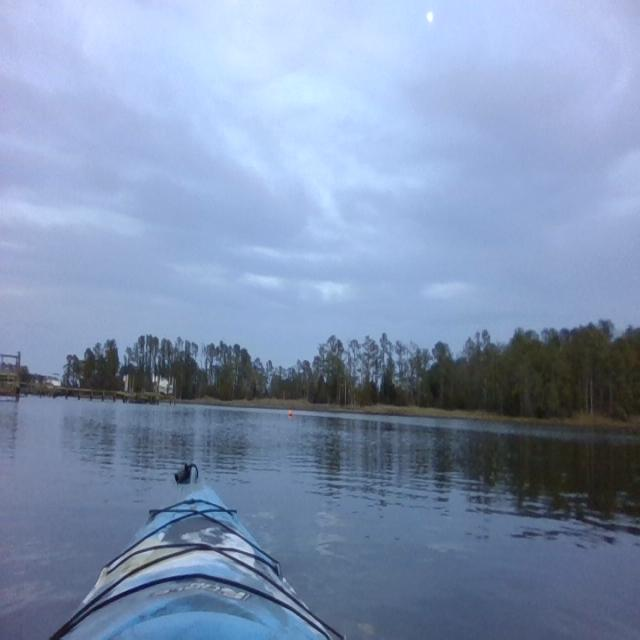Buoy: (289, 409, 295, 418)
